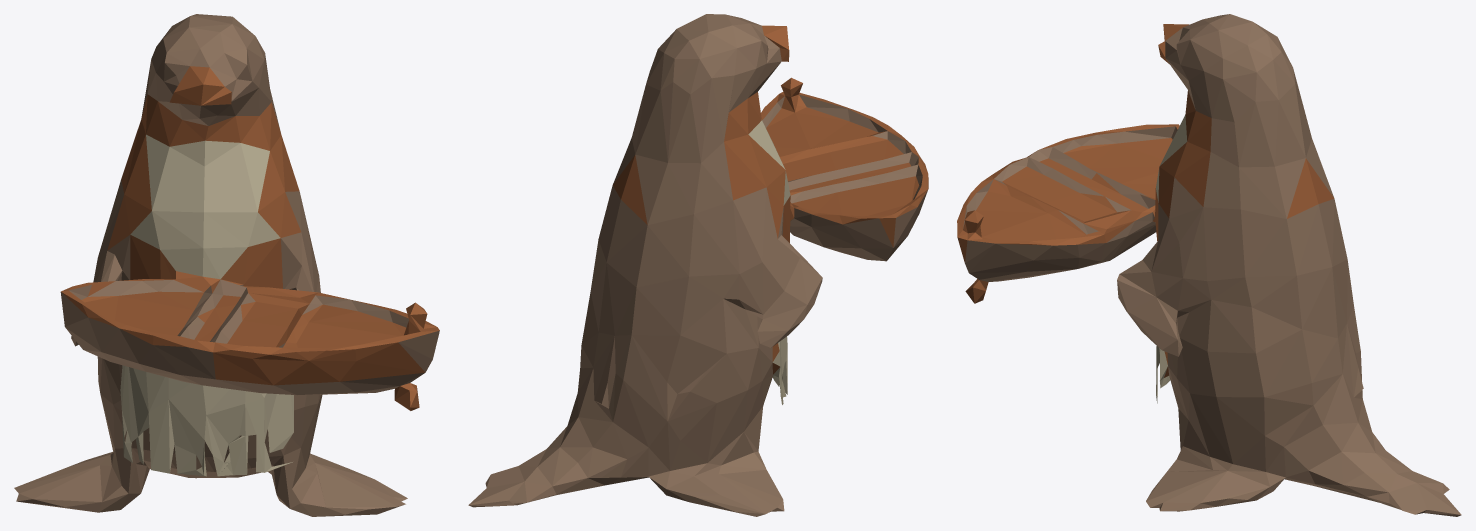
3 renders of one model, left to right at view 1: azimuth 30°, elevation 25°; view 2: azimuth 150°, elevation 25°; view 3: azimuth 270°, elevation 25°, orthographic. The views are drawn at different scales.
Bounding box in the file's own units: 0.5615 × 0.793 × 0.8393.
